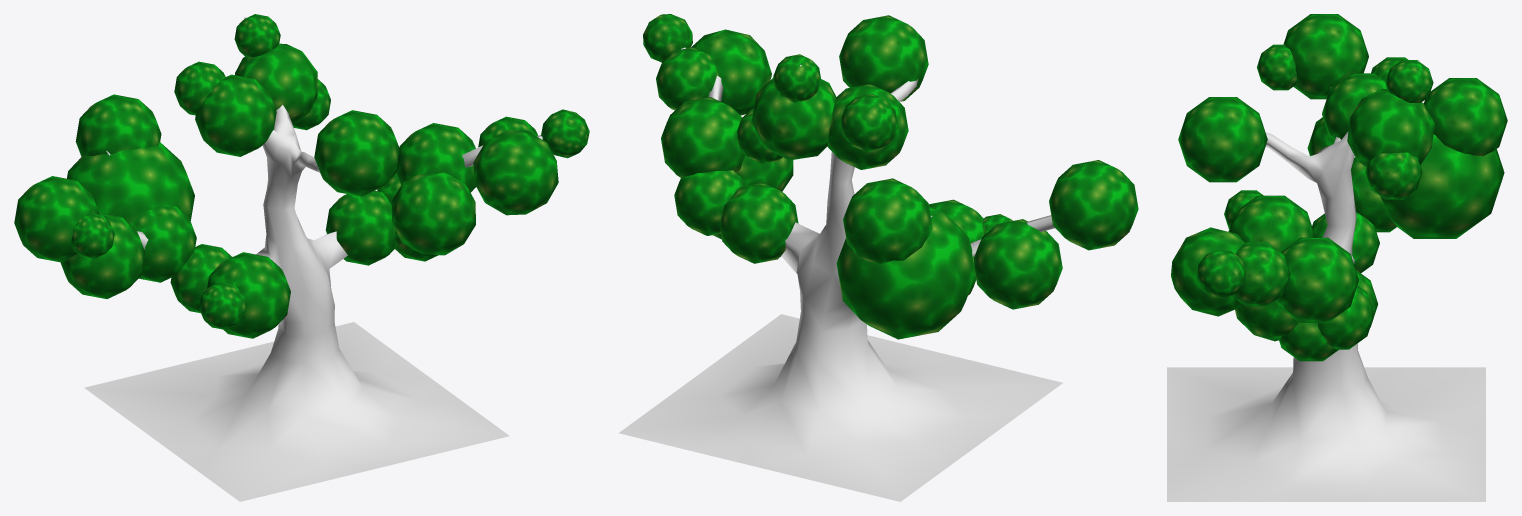
File: UltimoArbolVivo.fbx
The picture shows the model from 3 angles, left to right: view 1: azimuth 30°, elevation 25°; view 2: azimuth 150°, elevation 25°; view 3: azimuth 270°, elevation 25°; orthographic projection. The views are drawn at different scales.
Parts seen in each view (by area): view 1: FollajeArbolGrande, ArbolGrande; view 2: FollajeArbolGrande, ArbolGrande; view 3: FollajeArbolGrande, ArbolGrande.
Boxes of the visible parts, x1,y1,x2,y2 form: FollajeArbolGrande: (14, 14, 589, 338); ArbolGrande: (84, 17, 542, 501); FollajeArbolGrande: (643, 14, 1138, 339); ArbolGrande: (618, 47, 1062, 501); FollajeArbolGrande: (1171, 14, 1507, 361); ArbolGrande: (1167, 60, 1485, 501).
Bounding box in the file's own units: 381 × 259 × 214.
